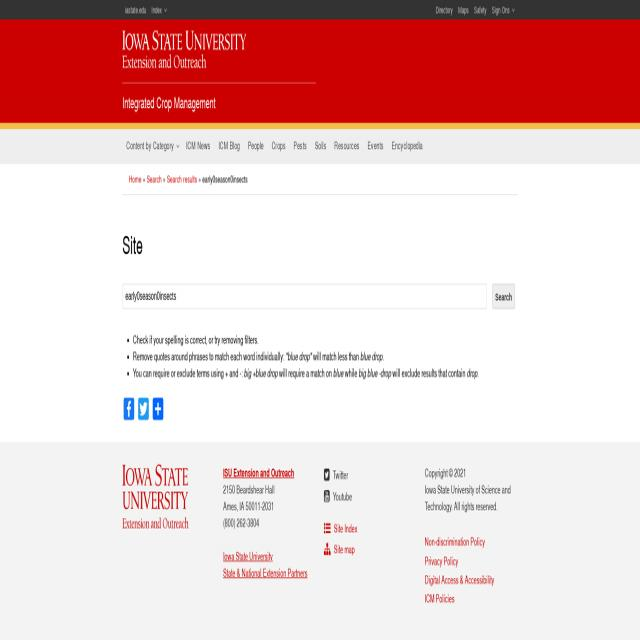button: (122, 31, 246, 68), (122, 464, 188, 528), (122, 130, 182, 164), (388, 130, 427, 164), (330, 130, 364, 164), (182, 130, 214, 164), (214, 130, 244, 164), (363, 130, 388, 164), (244, 130, 268, 164), (268, 130, 290, 164), (290, 130, 311, 164), (311, 130, 331, 164), (492, 284, 516, 310), (489, 0, 518, 20), (122, 0, 149, 20), (433, 0, 455, 20), (149, 0, 170, 20), (471, 0, 489, 20), (456, 0, 472, 20), (138, 398, 149, 420), (124, 398, 134, 420), (153, 398, 163, 420)
field: (122, 285, 486, 309)
